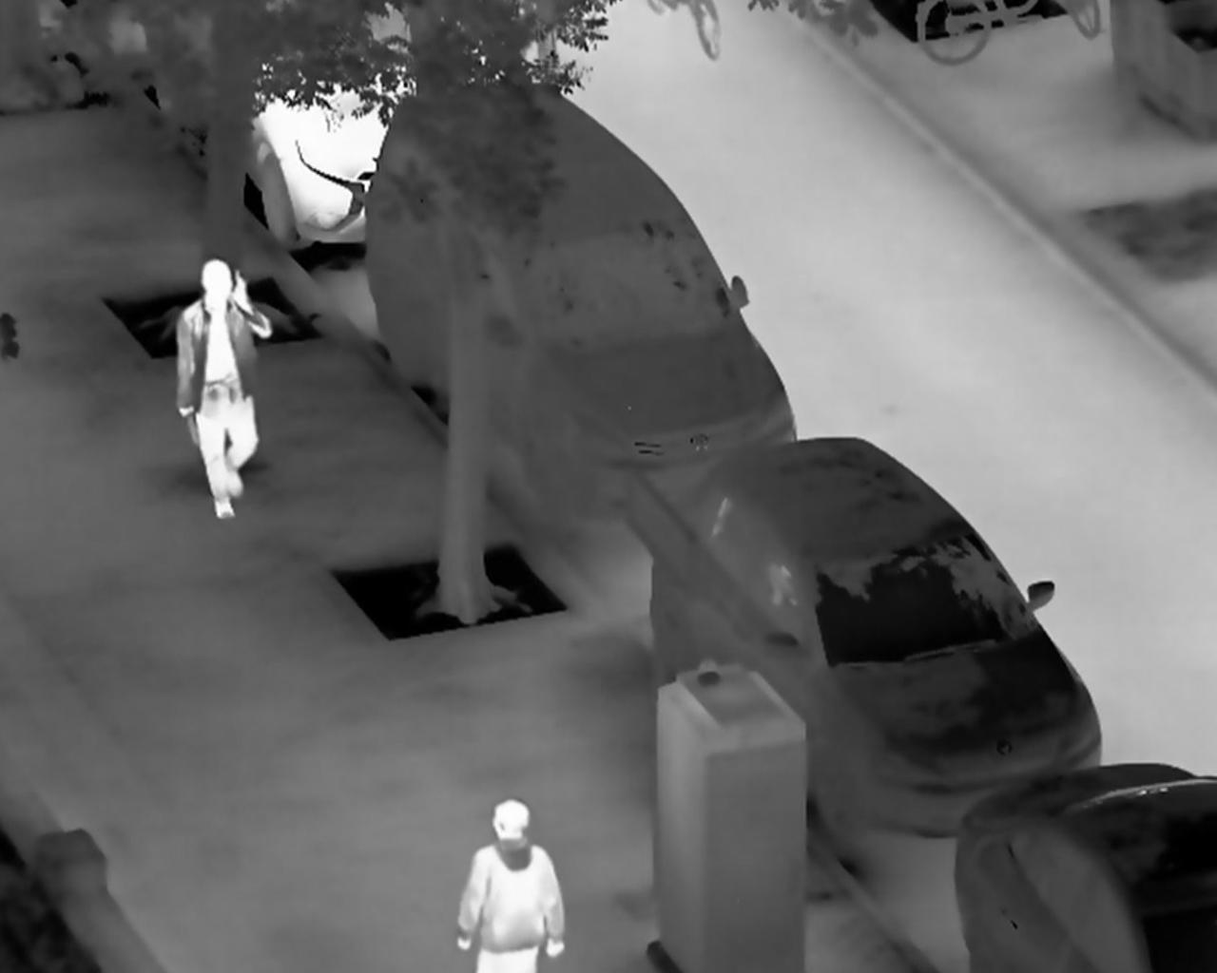person: (173, 257, 274, 522), (453, 797, 569, 973)
